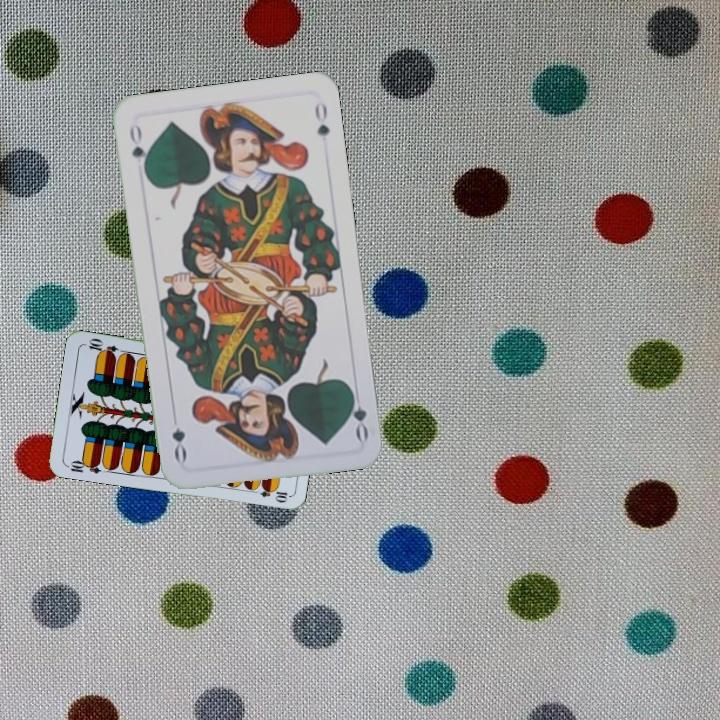E10: (62, 456, 103, 476)
GO: (344, 383, 371, 443), (125, 119, 151, 178)
